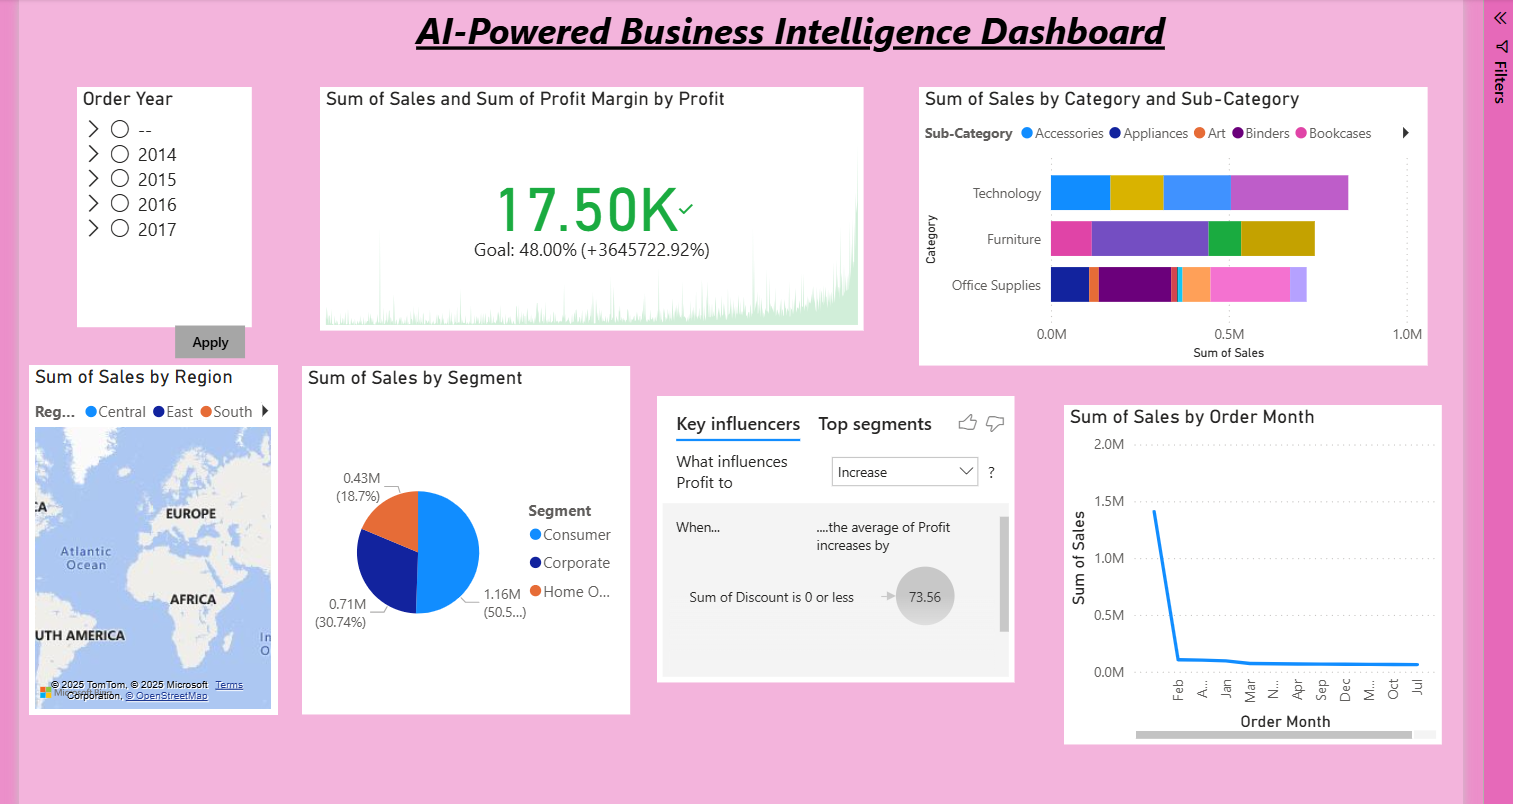

What the dashboard file says about the page in this screenshot:
{"tool":"powerbi","page":{"name":"Page 1","canvas":[1280,720],"ordinal":0},"visuals":[{"type":"barChart","fields":{"Category":["Sample - Superstore.Category"],"Y":["Sum(Sample - Superstore.Sales)"],"Series":["Sample - Superstore.Sub-Category"]},"box":[798,78,451.3,246.5],"z":0},{"type":"lineChart","fields":{"Category":["Sample - Superstore.Order Month"],"Y":["Sum(Sample - Superstore.Sales)"]},"box":[926.6,360,335.2,301.5],"z":1},{"type":"filledMap","fields":{"Series":["Sample - Superstore.Region"]},"box":[8.9,324.5,219.9,310.3],"z":2},{"type":"kpi","fields":{"Indicator":["Sum(Sample - Superstore.Sales)"],"Goal":["Sum(Sample - Superstore.Profit Margin)"],"TrendLine":["Sample - Superstore.Profit"]},"box":[266.9,78,482.4,216.4],"z":3},{"type":"pieChart","fields":{"Category":["Sample - Superstore.Segment"],"Y":["Sum(Sample - Superstore.Sales)"]},"box":[250.9,325.4,290.8,309.5],"z":4},{"type":"keyDriversVisual","fields":{"Target":["Sample - Superstore.Profit"],"ExplainBy":["Sum(Sample - Superstore.Discount)","Sample - Superstore.Category","Sample - Superstore.Region"]},"box":[565.7,352,316.6,254.5],"z":5},{"type":"listSlicer","fields":{"Values":["Sample - Superstore.Order Year","Sample - Superstore.Region"]},"box":[51.4,78,155.2,246.5],"z":6},{"type":"textbox","box":[274,0,820.2,70],"z":7}]}

Visuals, with their boxes in screenshot pixels (x1, y1, x2, y2):
barChart - Sample - Superstore.Category x Sum(Sample - Superstore.Sales): rect(919, 42, 1434, 323)
lineChart - Sample - Superstore.Order Month x Sum(Sample - Superstore.Sales): rect(1065, 364, 1448, 708)
filledMap - Sample - Superstore.Region: rect(18, 323, 269, 677)
kpi - Sum(Sample - Superstore.Sales) x Sum(Sample - Superstore.Profit Margin): rect(313, 42, 863, 289)
pieChart - Sample - Superstore.Segment x Sum(Sample - Superstore.Sales): rect(294, 324, 626, 677)
keyDriversVisual - Sample - Superstore.Profit x Sum(Sample - Superstore.Discount): rect(654, 354, 1015, 645)
listSlicer - Sample - Superstore.Order Year x Sample - Superstore.Region: rect(67, 42, 244, 323)
textbox: rect(321, 0, 1257, 33)
